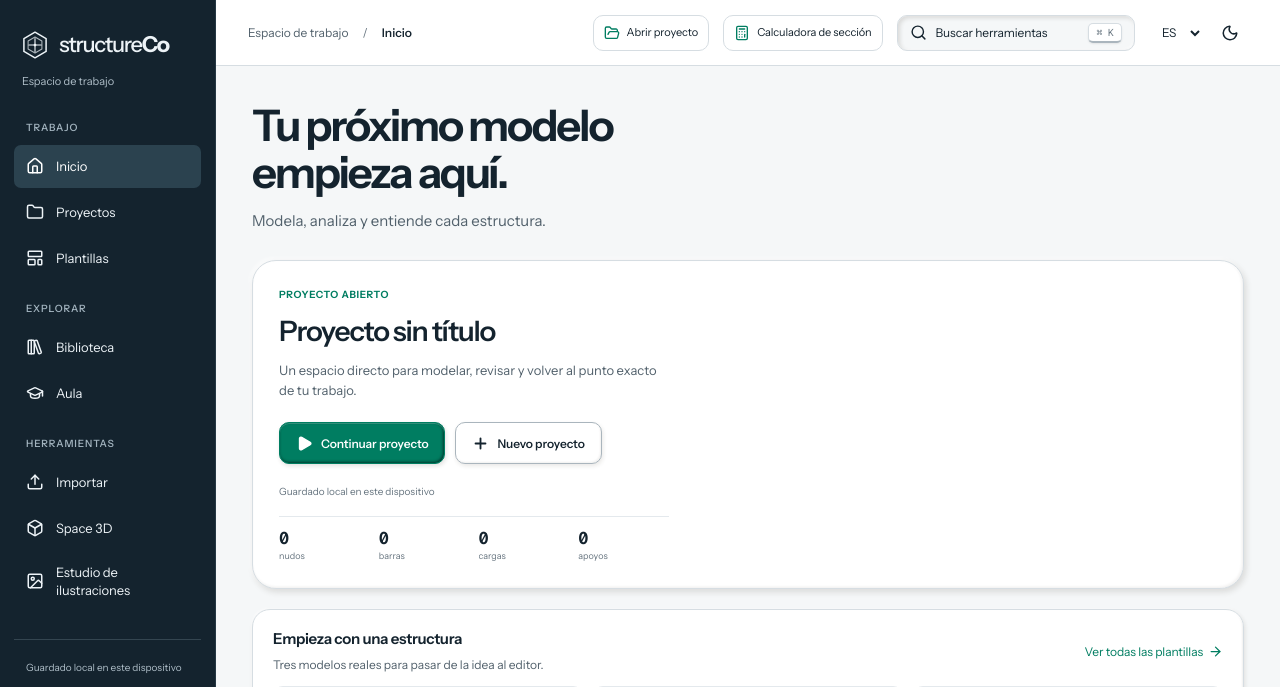
Home total redesign contract › opens the personal library as its own Home destination
Click the button "Biblioteca": (108, 347) top-left (14, 326), bottom-right (201, 368)
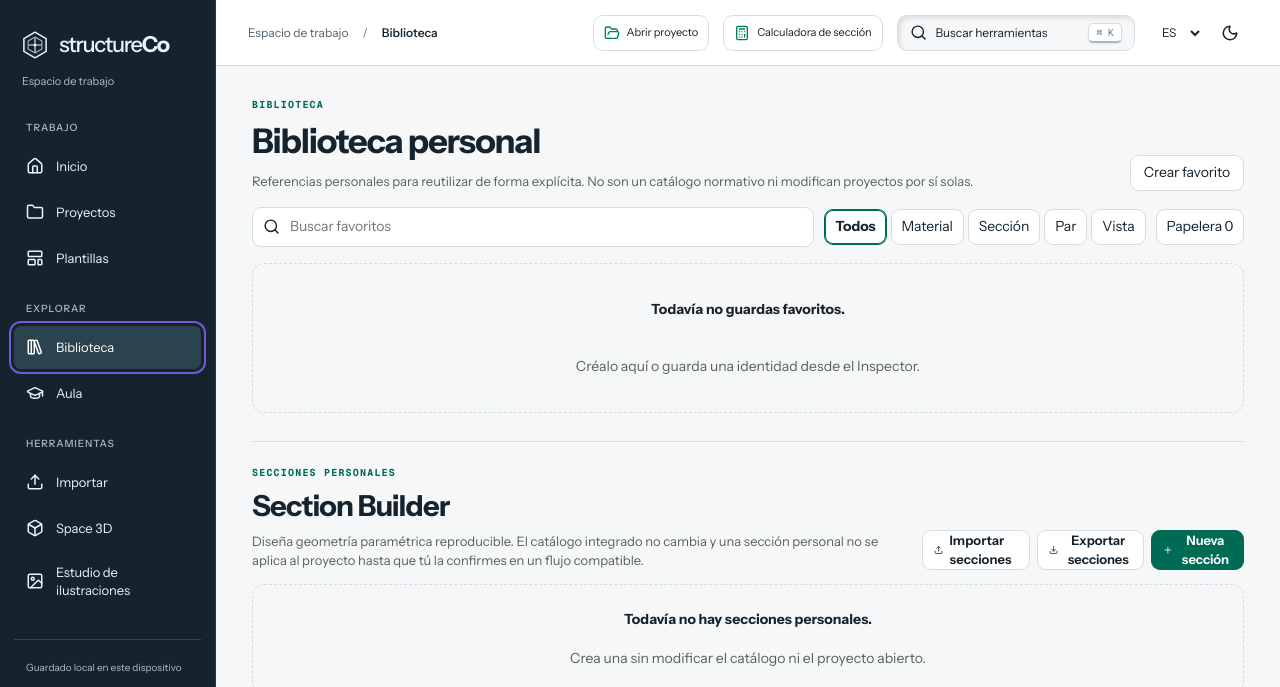
Expected: the heading "Biblioteca personal" is shown, top-left (252, 120), bottom-right (540, 162)
Expected: the text "No son un catálogo normativo" is shown, top-left (252, 173), bottom-right (973, 189)
